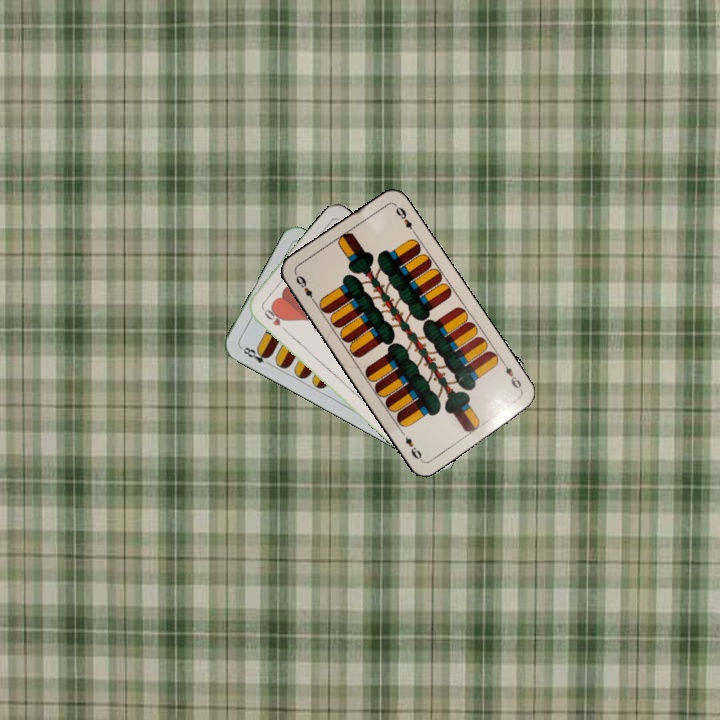E8: (237, 342, 274, 368)
E9: (498, 357, 525, 394), (291, 270, 318, 306)
HO: (258, 304, 291, 336)
